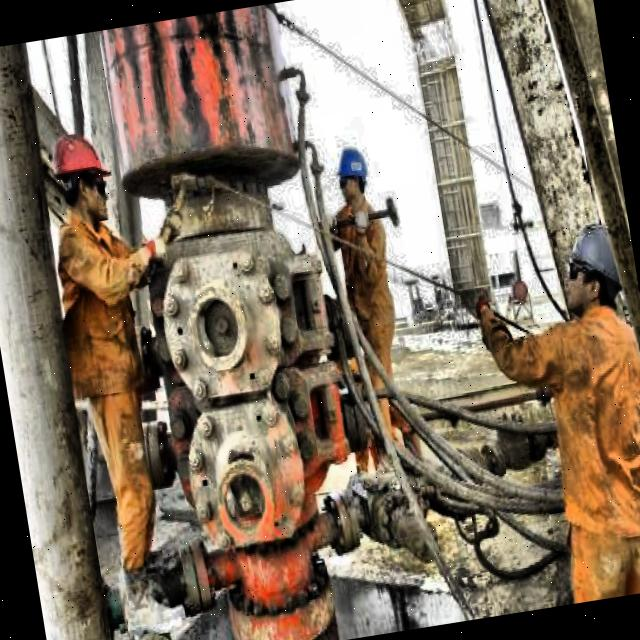helmet: (41, 120, 119, 234), (558, 218, 625, 324), (330, 138, 376, 218)
